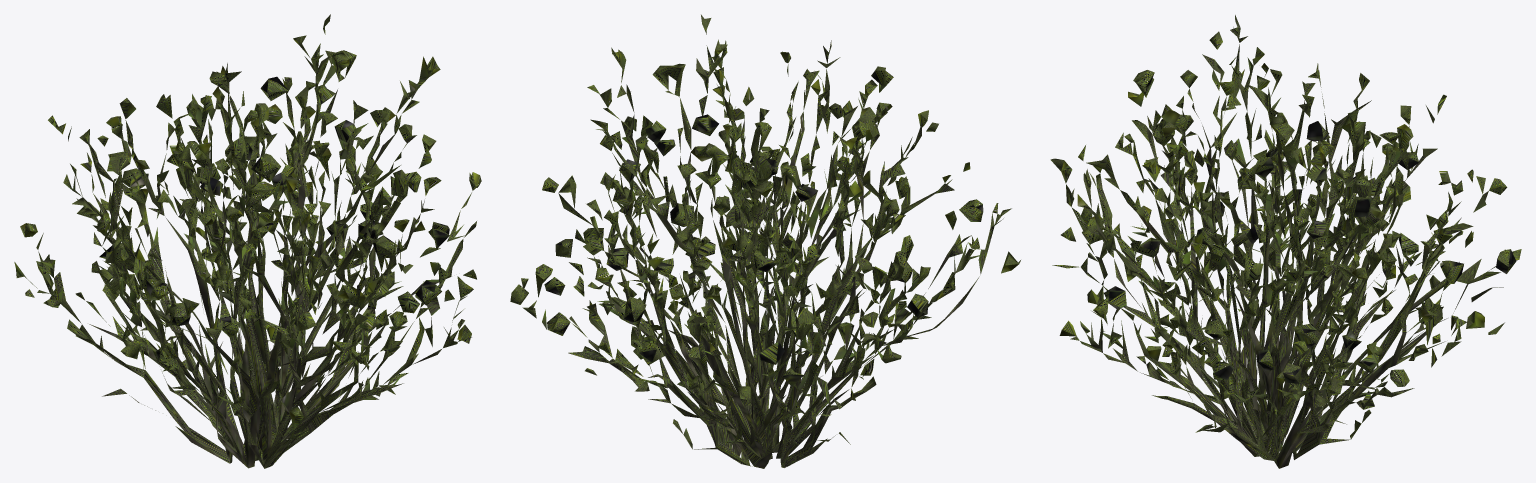
Rendered from creosote-bush.glb.
3 views of the same model, side by side, from view 1: azimuth 30°, elevation 25°; view 2: azimuth 150°, elevation 25°; view 3: azimuth 270°, elevation 25° (orthographic).
Visible parts, largest first — view 1: world; view 2: world; view 3: world.
Boxes of the visible parts, x1=… form: world: x1=14, y1=14, x2=481, y2=468; world: x1=510, y1=14, x2=1020, y2=468; world: x1=1050, y1=15, x2=1521, y2=468.
Bounding box in the file's own units: 0.9573 × 0.999 × 0.9969.
1 material, 1 textured.
